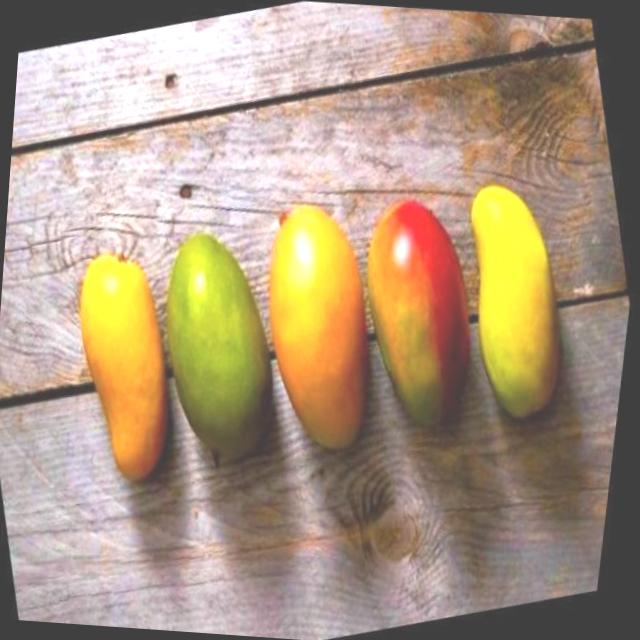Mango: (252, 200, 374, 438), (358, 197, 476, 423), (457, 180, 568, 414), (64, 244, 174, 476), (162, 229, 270, 436)
